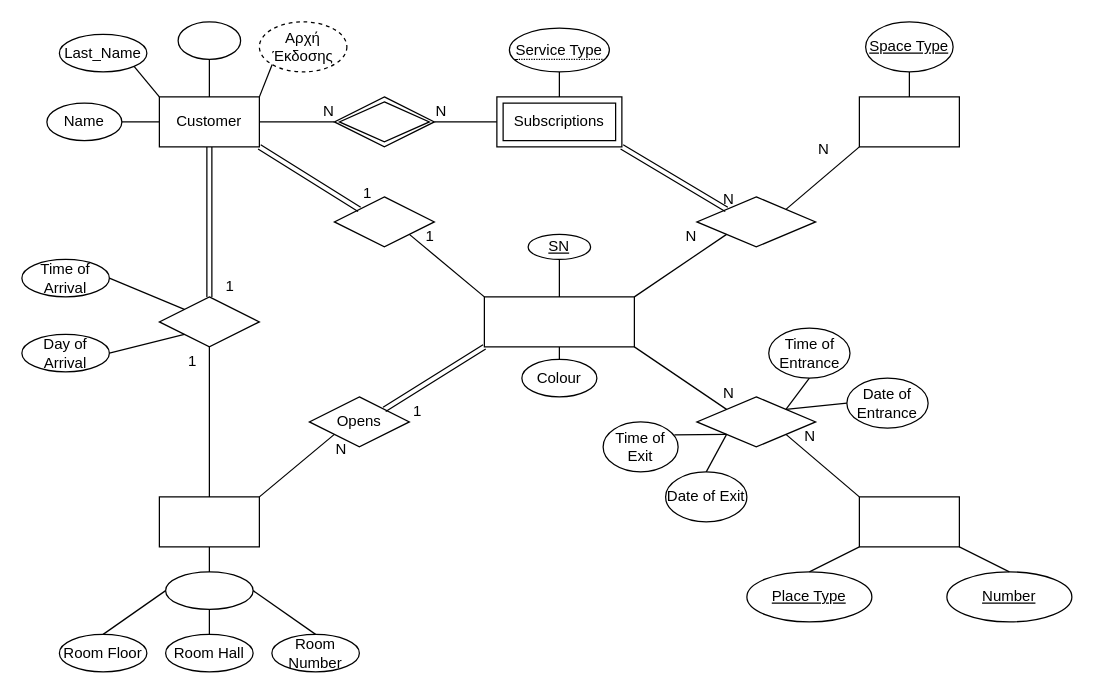
The diagram is 1094 pixels wide and 694 high, and some of its shapes have lost their labels. Each missing label, with the centre of its shape:
"Accessed" belongs at (x=756, y=421).
"Gives Access" belongs at (x=756, y=221).
"Has" belongs at (x=383, y=221).
"ID" belongs at (x=209, y=40).
"NFC Bracelet" belongs at (x=558, y=321).
"Public Space" belongs at (x=908, y=521).
"Room" belongs at (x=208, y=521).
"Room ID" belongs at (x=208, y=590).
"Signed_Up" belongs at (x=383, y=121).
"Stays" belongs at (x=208, y=321).
"Subscription Spaces" belongs at (x=908, y=121).
